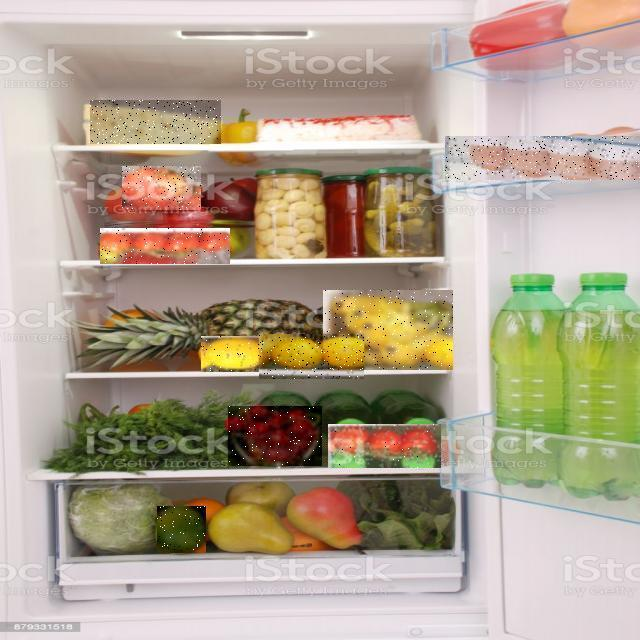Apple: (122, 166, 201, 210)
Banana: (323, 290, 453, 370)
Cheese: (90, 100, 221, 144)
Eggs: (445, 136, 640, 180)
Lemon: (259, 334, 364, 379), (201, 337, 262, 373)
Lime: (157, 506, 206, 553)
Tomatoes: (228, 406, 322, 466), (328, 424, 441, 468), (100, 228, 230, 264)
